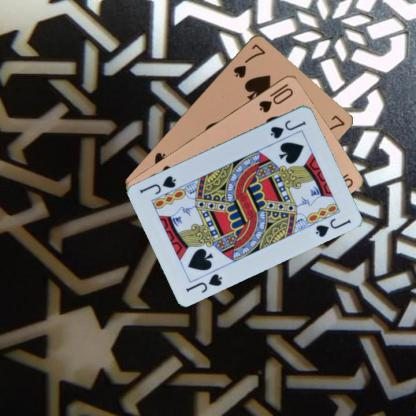10s: (256, 80, 295, 114)
7s: (230, 41, 267, 79)
Js: (183, 270, 224, 294), (268, 117, 308, 140)
